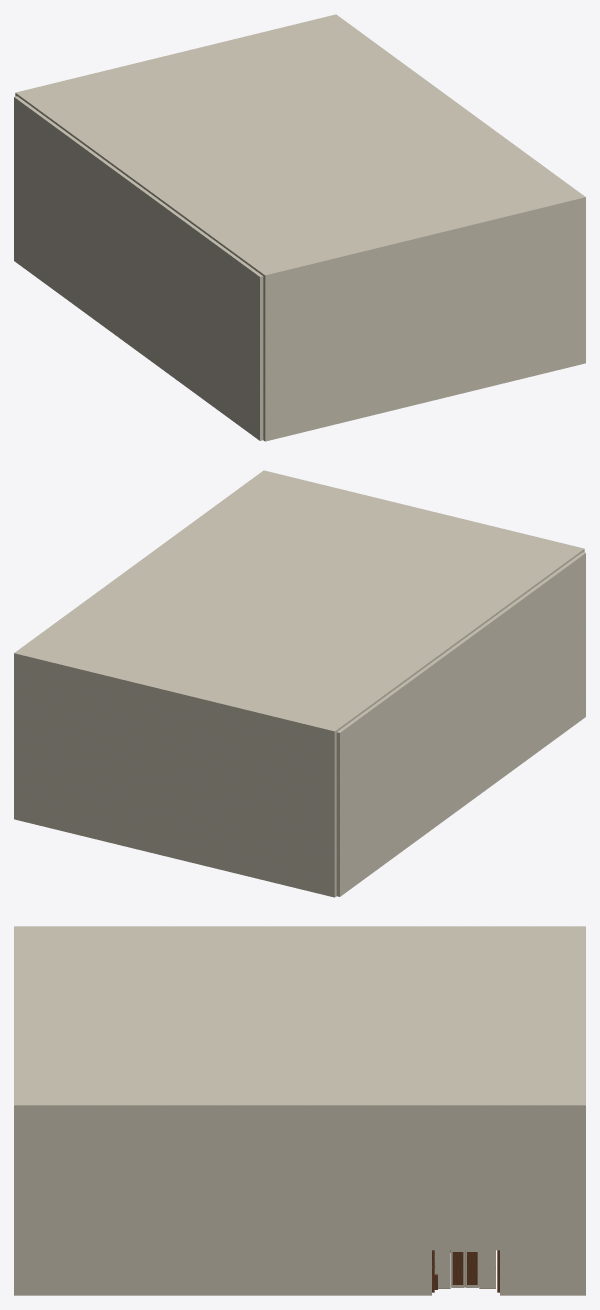
3 views of the same model, one above another, from view 1: azimuth 30°, elevation 25°; view 2: azimuth 150°, elevation 25°; view 3: azimuth 270°, elevation 25° (orthographic). The views are drawn at different scales.
Parts seen in each view (by area): view 1: PavilionRoof, AftPartyWall, HeldFrontageOpaqueEnclosure, InnerAftPartyReturn; view 2: PavilionRoof, ForePartyWall, HeldFrontageOpaqueEnclosure, InnerForePartyReturn; view 3: PavilionRoof, InnerAftPartyReturn, InnerForePartyReturn, ArrivalHeader, PrivateEntry_01_ENTRY_PocketSkin_-1_1, PrivateEntry_01_ENTRY_PocketSkin_1_1, ForePartyWall.
Boxes of the visible parts, x1,y1,x2,y2 form: PavilionRoof: [15, 14, 585, 277]; AftPartyWall: [263, 199, 585, 441]; HeldFrontageOpaqueEnclosure: [14, 96, 263, 440]; InnerAftPartyReturn: [582, 199, 585, 363]; PavilionRoof: [14, 470, 584, 733]; ForePartyWall: [14, 655, 336, 897]; HeldFrontageOpaqueEnclosure: [336, 552, 585, 896]; InnerForePartyReturn: [14, 655, 17, 819]; PavilionRoof: [14, 926, 585, 1107]; InnerAftPartyReturn: [14, 1108, 431, 1295]; InnerForePartyReturn: [500, 1108, 585, 1295]; ArrivalHeader: [432, 1108, 499, 1250]; PrivateEntry_01_ENTRY_PocketSkin_-1_1: [479, 1250, 495, 1288]; PrivateEntry_01_ENTRY_PocketSkin_1_1: [434, 1250, 450, 1288]; ForePartyWall: [581, 1108, 585, 1294].
Size of the model in its own units: 23.88 by 11.7 by 31.88.
Materials: 227 (199 with a texture image).
